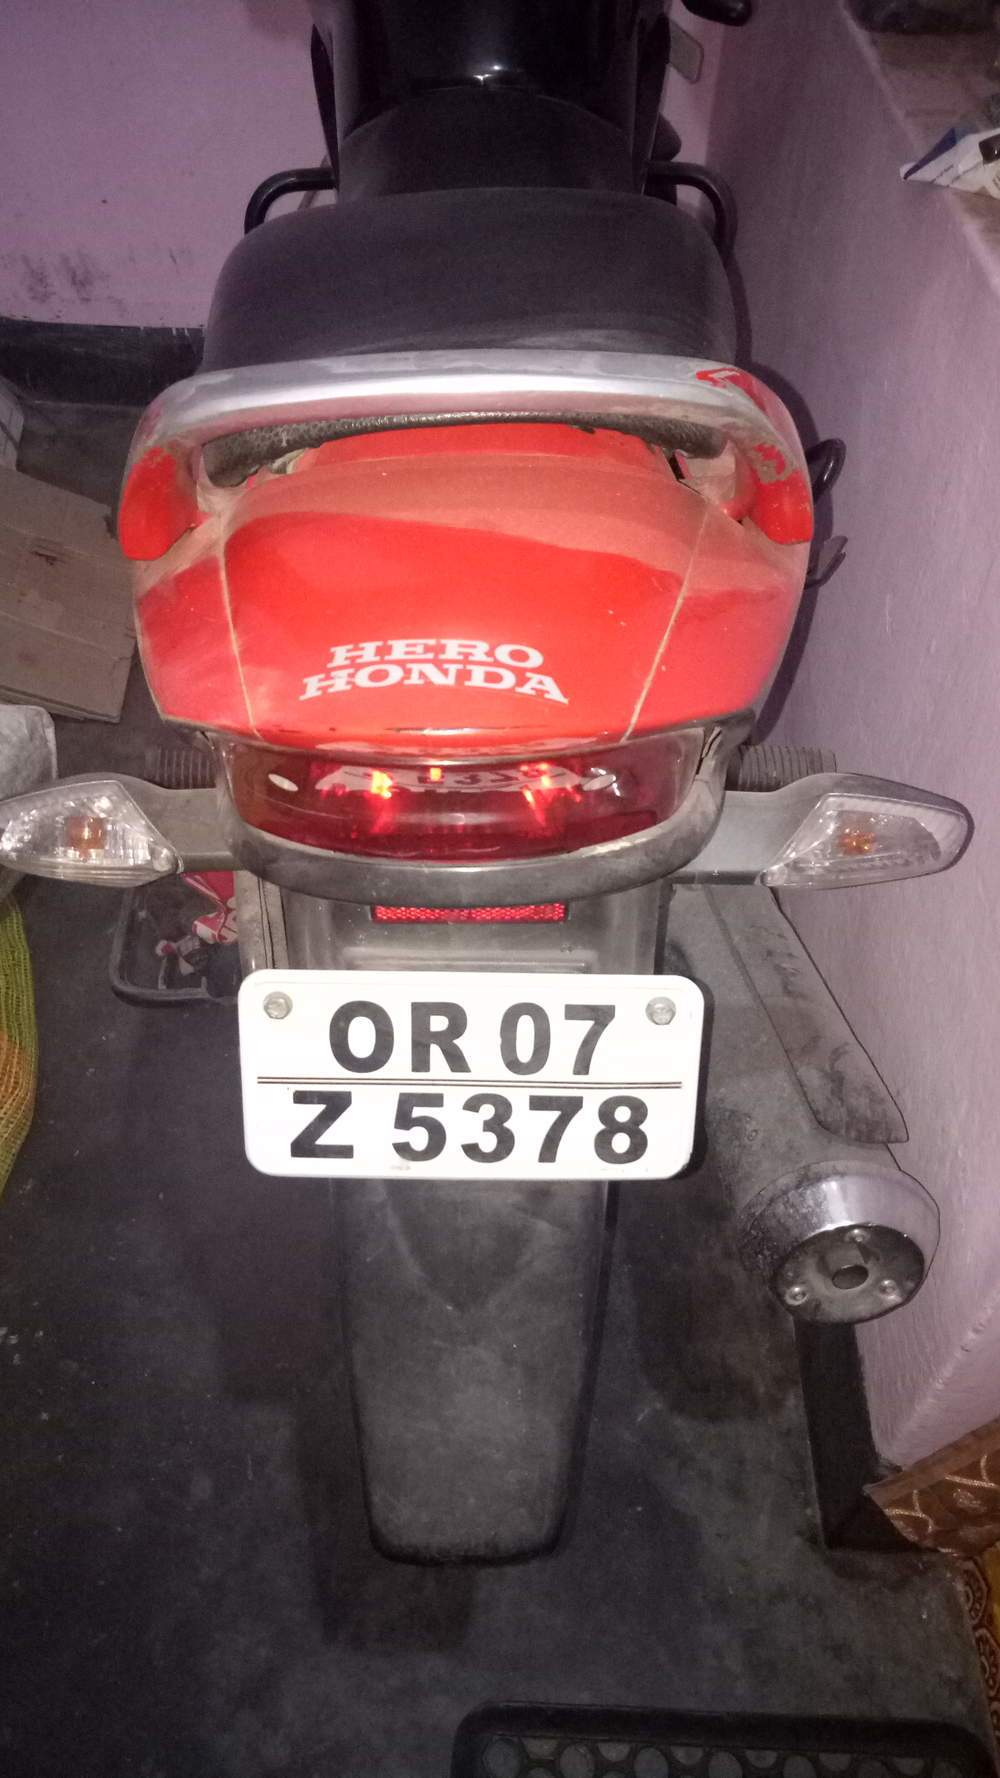number_plate: (234, 958, 712, 1191)
